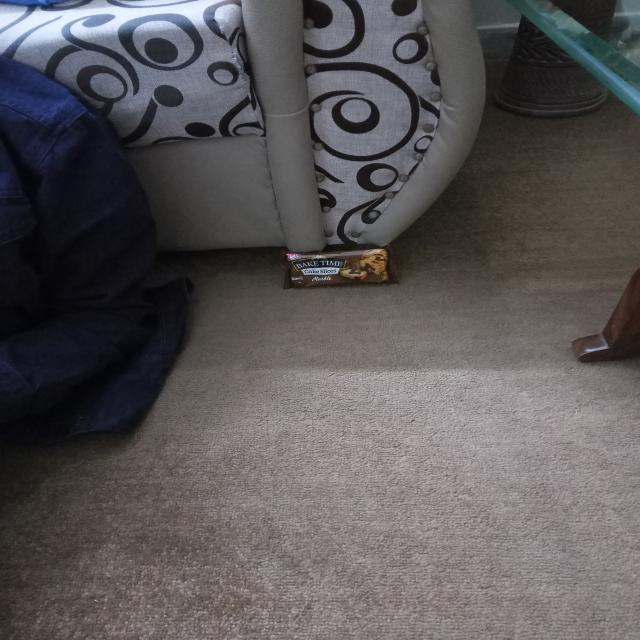Plastic: (279, 248, 392, 290)
